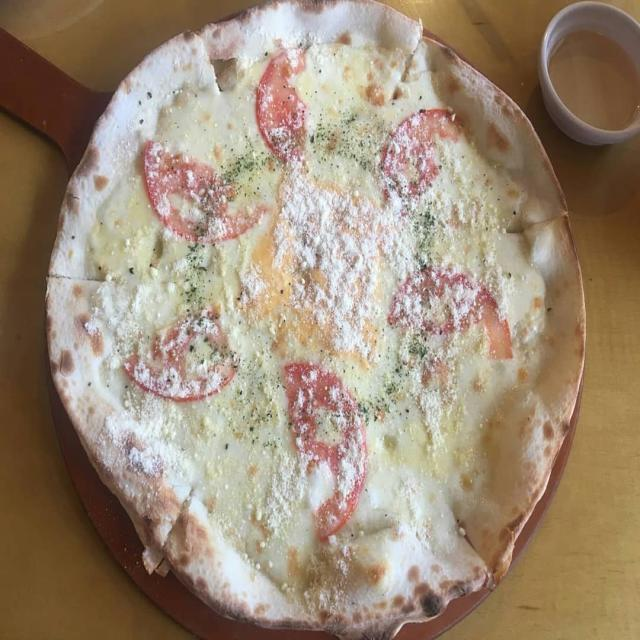pizza: (42, 0, 589, 640)
tomatoes: (282, 358, 371, 544), (142, 140, 268, 241), (385, 266, 520, 360), (122, 301, 242, 401), (374, 110, 462, 200), (257, 44, 310, 166)
